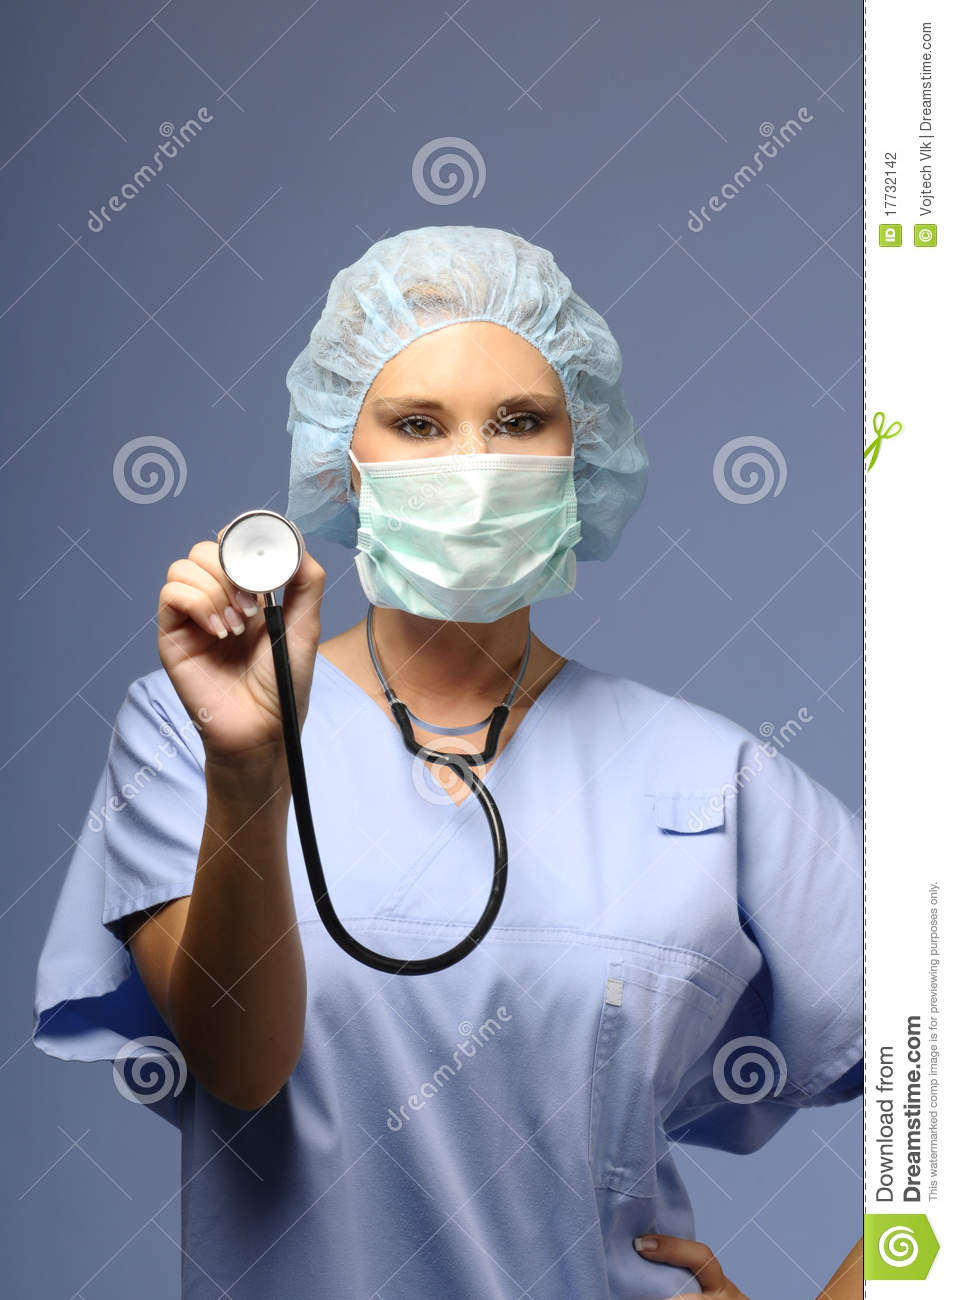mask: (338, 441, 588, 629)
